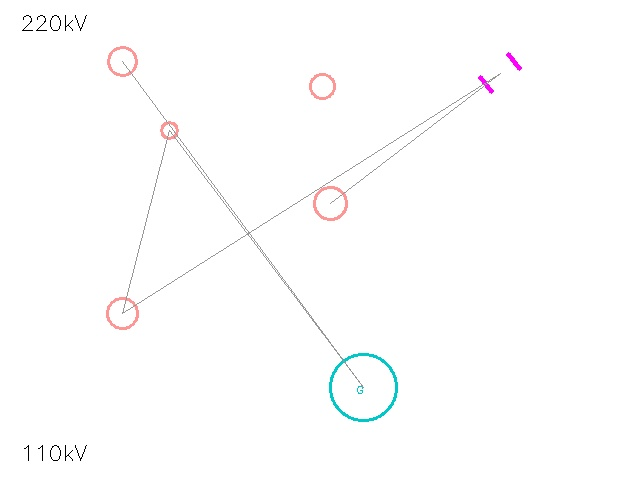capacitor: (470, 43, 530, 103)
current_transformer: (298, 62, 346, 110)
generator: (330, 354, 396, 420)
load_break_switch: (297, 170, 363, 236), (152, 113, 186, 147)
reactor: (92, 283, 152, 343)
surge_arrester: (93, 32, 151, 90)
